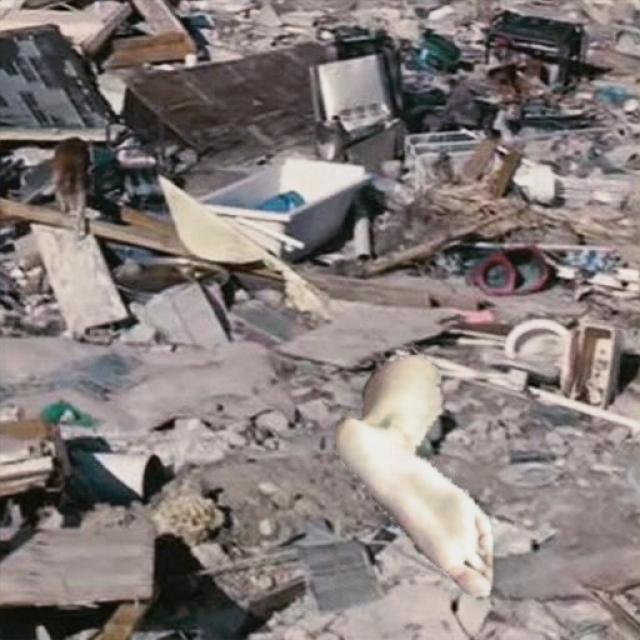Person in Rubble: (336, 352, 492, 598)
